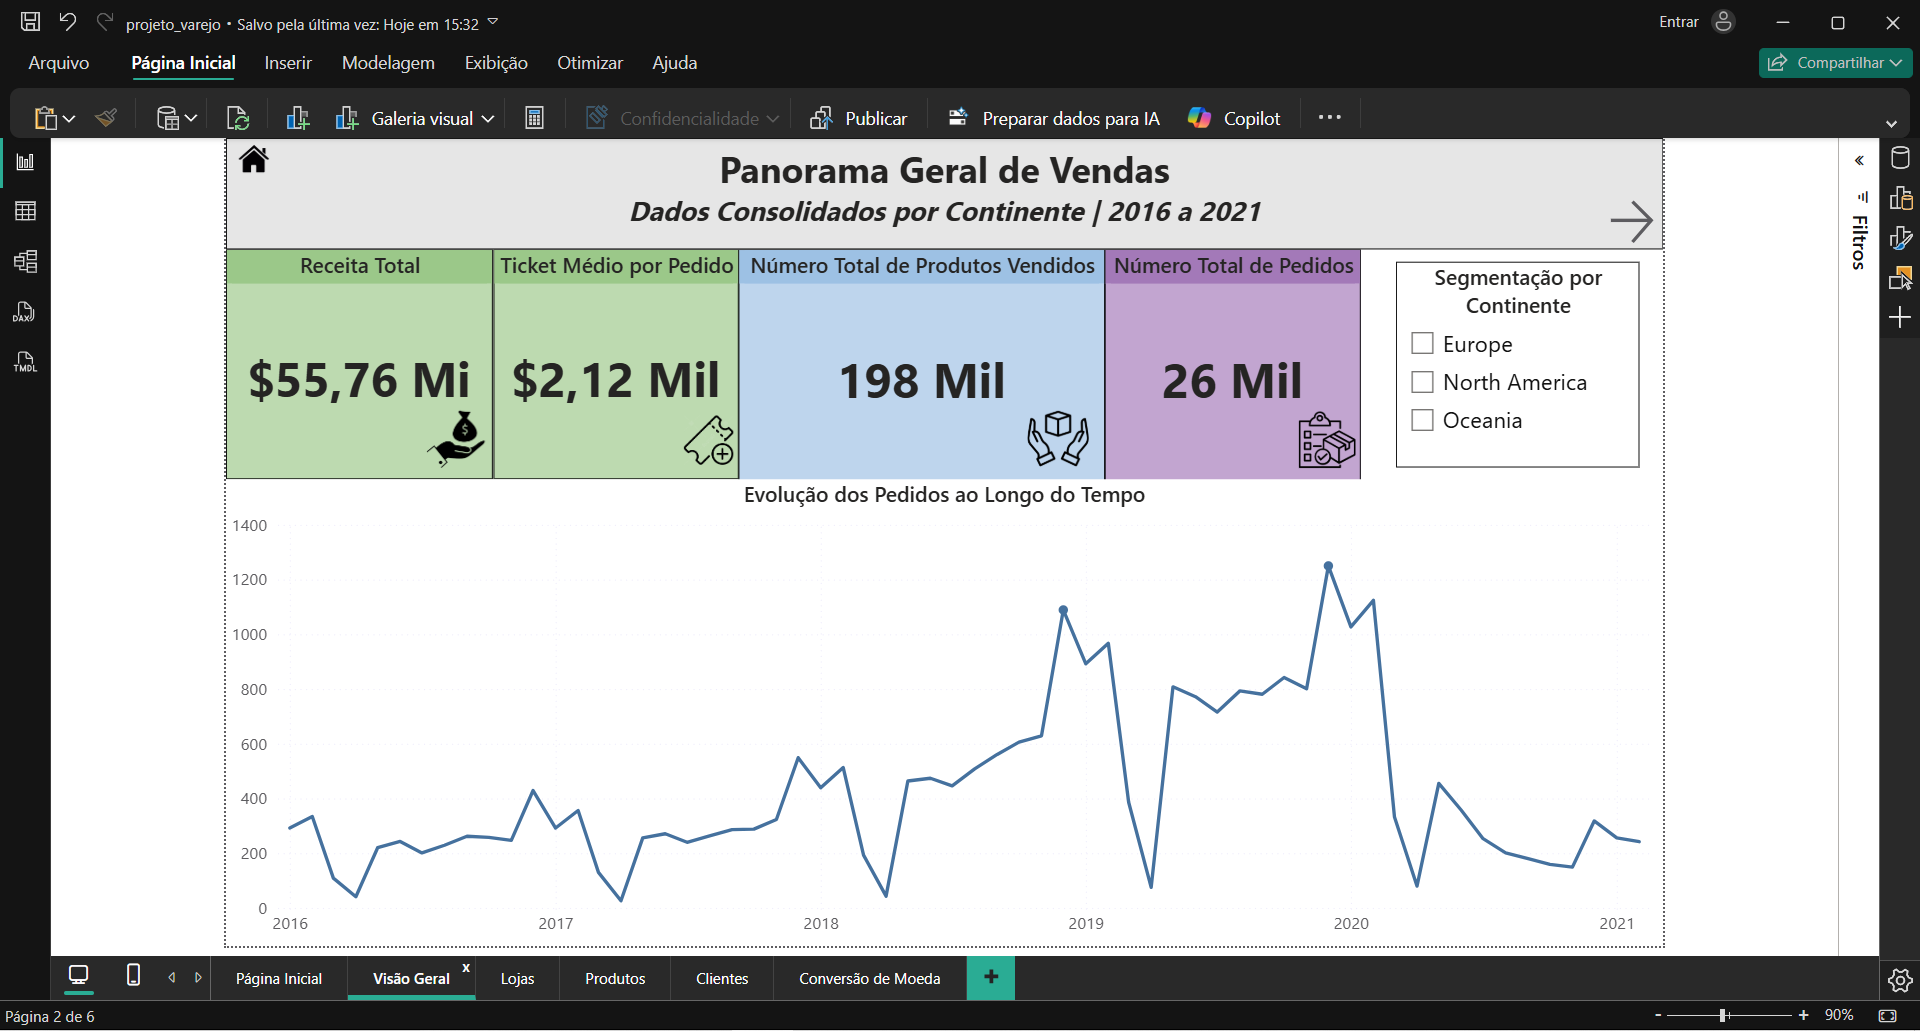

The dashboard page shown, as its layout file describes it:
{"tool":"powerbi","page":{"name":"Visão Geral","canvas":[1280,720],"ordinal":1},"visuals":[{"type":"card","title":"Número Total de Pedidos","fields":{"Values":["Medidas.qtd_pedidos"]},"box":[782.8,99.4,228.2,206.1],"z":0},{"type":"card","title":"Número Total de Produtos Vendidos","fields":{"Values":["Medidas.total_produtos_vendidos"]},"box":[456.4,99.4,326.4,206.1],"z":1000},{"type":"card","title":"Ticket Médio por Pedido","fields":{"Values":["Medidas.ticket_medio_USD"]},"box":[238,99.4,218.4,204.9],"z":2000},{"type":"card","title":"Receita Total","fields":{"Values":["Medidas.receita_total_USD"]},"box":[0,99.6,237.5,204.8],"z":3000},{"type":"lineChart","title":"Evolução dos Pedidos ao Longo do Tempo","fields":{"Y":["Medidas.qtd_pedidos"],"Category":["fVendas.data_pedido.Variation.Hierarquia de datas.Ano","fVendas.data_pedido.Variation.Hierarquia de datas.Mês"]},"box":[0,304.3,1279.8,416],"z":4000},{"type":"slicer","title":"Segmentação por Continente","fields":{"Values":["dClientes.continente"]},"box":[1041.7,109.6,216.4,183.2],"z":5000},{"type":"textbox","box":[0,0,1280,99.6],"z":6000},{"type":"image","box":[709.2,231.9,63.8,72.4],"z":7000},{"type":"image","box":[173,231.9,65,72.4],"z":8000},{"type":"image","box":[950.9,231.9,60.1,73.6],"z":9000},{"type":"image","box":[402.5,233.1,54,72.4],"z":10000},{"type":"actionButton","box":[1227,50.3,52.8,49.1],"z":10001},{"type":"image","box":[0,0,50.3,36.8],"z":10002}]}

Visuals, with their boxes on the page's 1280x720 design canvas (x1, y1, x2, y2). These are canvas units, not pixel positions in the 1920x1031 screenshot, which may show the page scaled, cropped or inside an application window:
"Número Total de Pedidos" card: {"left": 783, "top": 99, "right": 1011, "bottom": 306}
"Número Total de Produtos Vendidos" card: {"left": 456, "top": 99, "right": 783, "bottom": 306}
"Ticket Médio por Pedido" card: {"left": 238, "top": 99, "right": 456, "bottom": 304}
"Receita Total" card: {"left": 0, "top": 100, "right": 238, "bottom": 304}
"Evolução dos Pedidos ao Longo do Tempo" lineChart: {"left": 0, "top": 304, "right": 1280, "bottom": 720}
"Segmentação por Continente" slicer: {"left": 1042, "top": 110, "right": 1258, "bottom": 293}
textbox: {"left": 0, "top": 0, "right": 1280, "bottom": 100}
image: {"left": 709, "top": 232, "right": 773, "bottom": 304}
image: {"left": 173, "top": 232, "right": 238, "bottom": 304}
image: {"left": 951, "top": 232, "right": 1011, "bottom": 306}
image: {"left": 402, "top": 233, "right": 456, "bottom": 306}
actionButton: {"left": 1227, "top": 50, "right": 1280, "bottom": 99}
image: {"left": 0, "top": 0, "right": 50, "bottom": 37}
